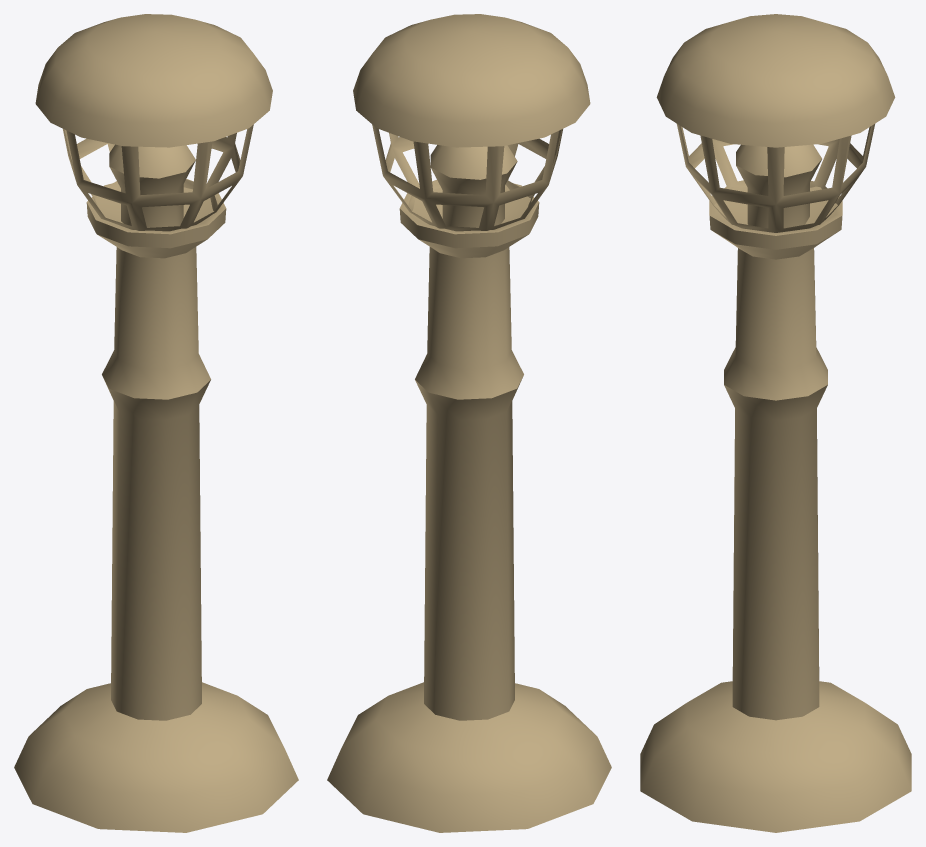
Rendered from lamp-01.fbx.
The picture shows the model from 3 angles, left to right: view 1: azimuth 30°, elevation 25°; view 2: azimuth 150°, elevation 25°; view 3: azimuth 270°, elevation 25°; orthographic projection.
Visible parts, largest first — view 1: lamp-01; view 2: lamp-01; view 3: lamp-01.
Part boxes in pixels (<box>): lamp-01: <box>14,14,298,832</box>; lamp-01: <box>327,14,611,832</box>; lamp-01: <box>640,14,911,832</box>.
Bounding box in the file's own units: 102 × 292 × 97.06.
